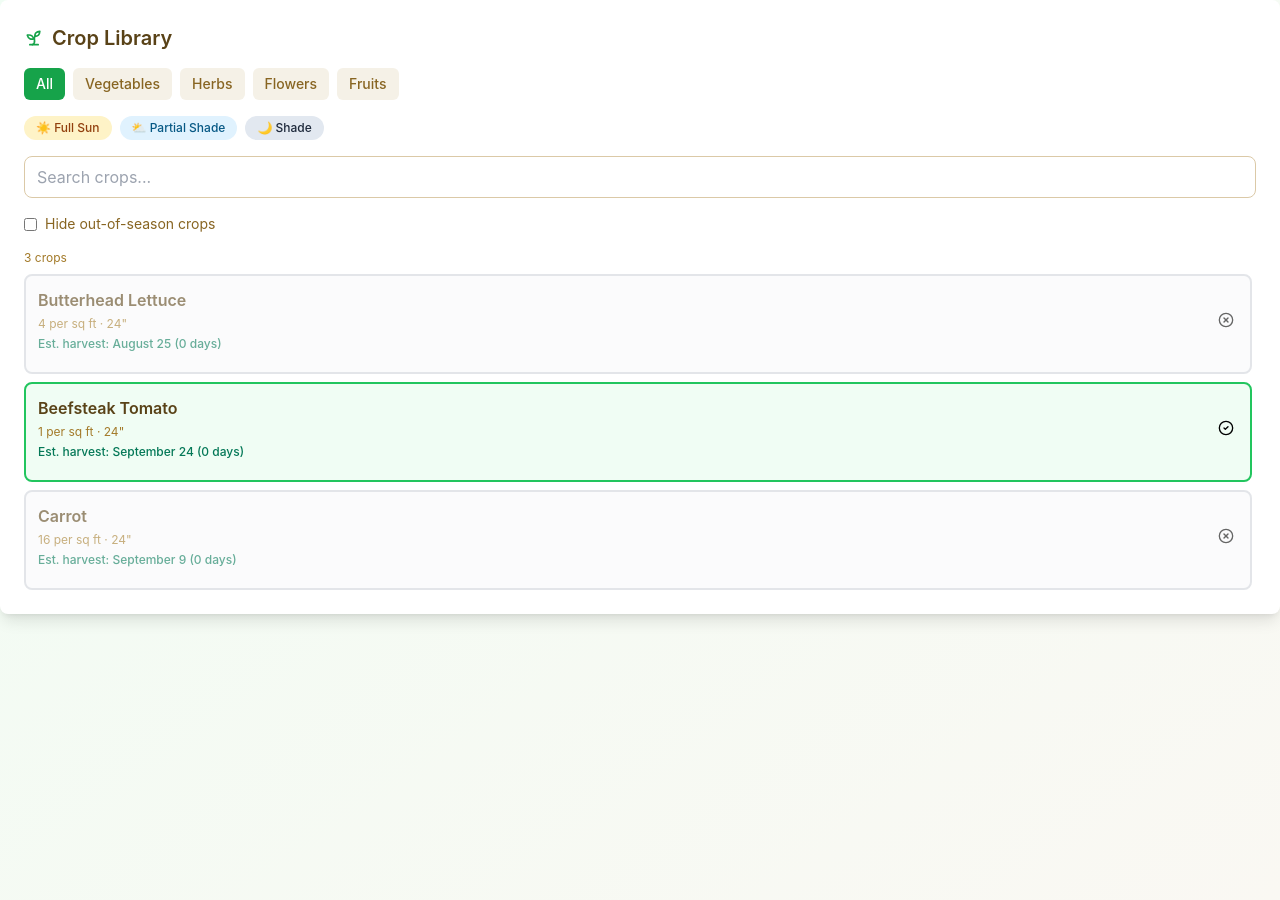
Test: CropLibrary › Viability Indicators › filters out-of-season crops when toggle is enabled
The width and height of the screenshot is (1280, 900).
Check: the text "Butterhead Lettuce" is shown, box top-left (38, 290), bottom-right (186, 310)
Check: the text "Beefsteak Tomato" is shown, box top-left (38, 398), bottom-right (178, 418)
# Enable filter
Click the checkbox labelled "Hide out-of-season crops": (30,224) top-left (24, 218), bottom-right (37, 230)
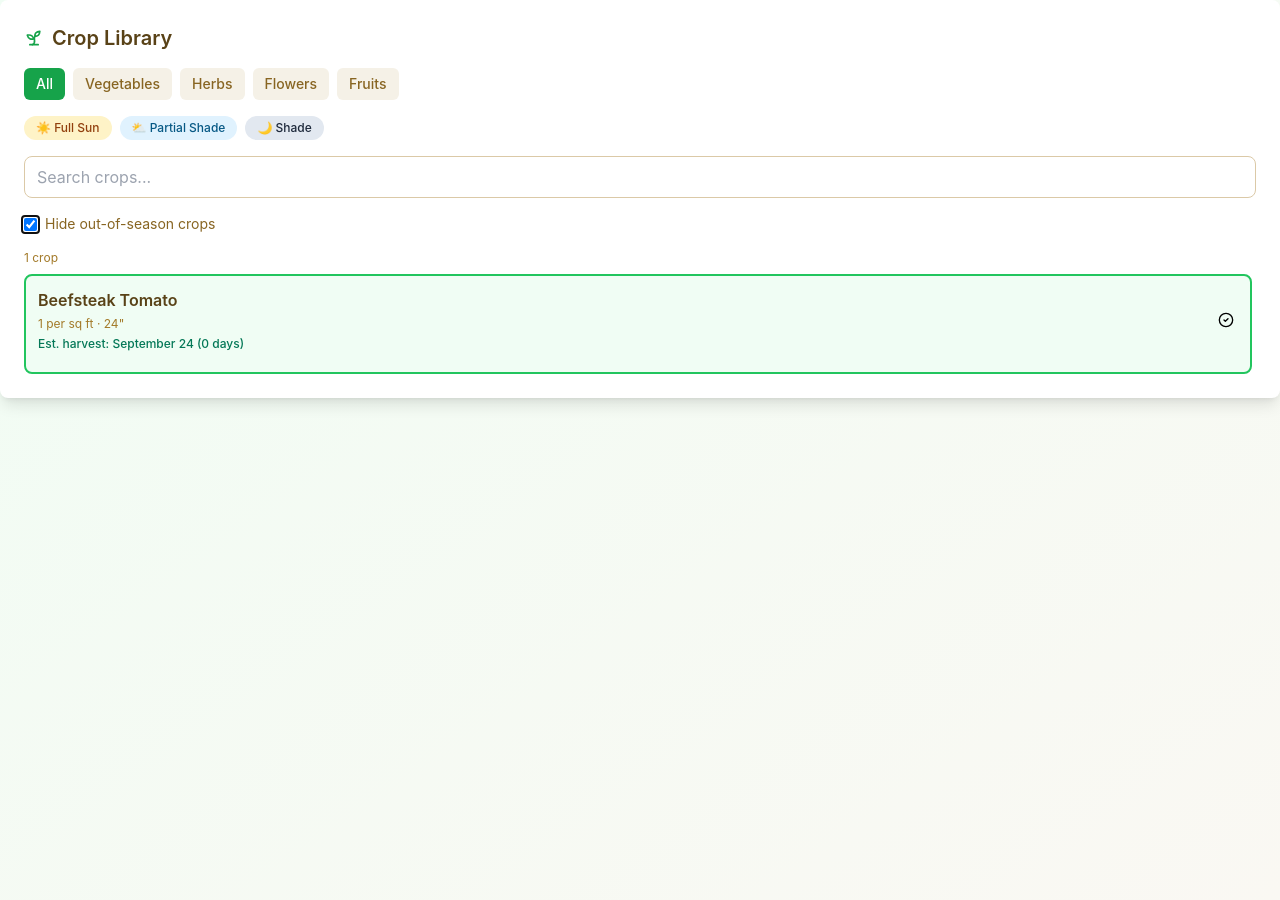
Check: the text "Beefsteak Tomato" is shown, box top-left (38, 290), bottom-right (178, 310)
Check: the button "Butterhead Lettuce" is gone
Check: the button "Carrot" is gone
